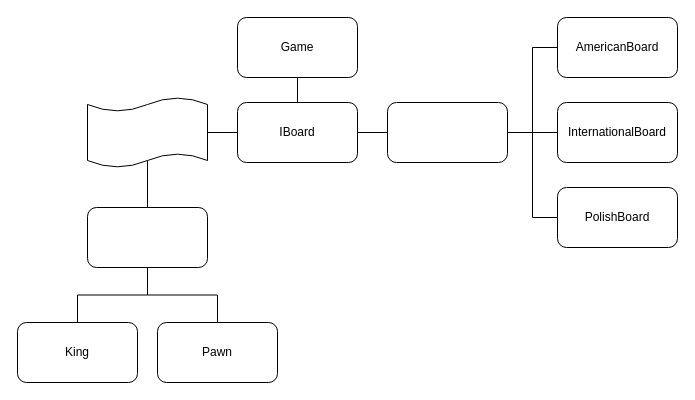
Some shapes in this 695 by 400 pixel diagram are drawn without their labels. Here are the shapes that lost their labels. From the top down, the box of each, then its label:
(86, 96, 208, 168): IPiece
(386, 102, 508, 162): Board
(86, 206, 208, 268): Piece
